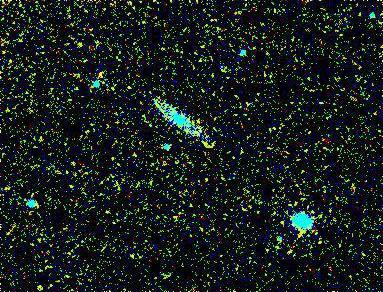star: (194, 130, 224, 160)
